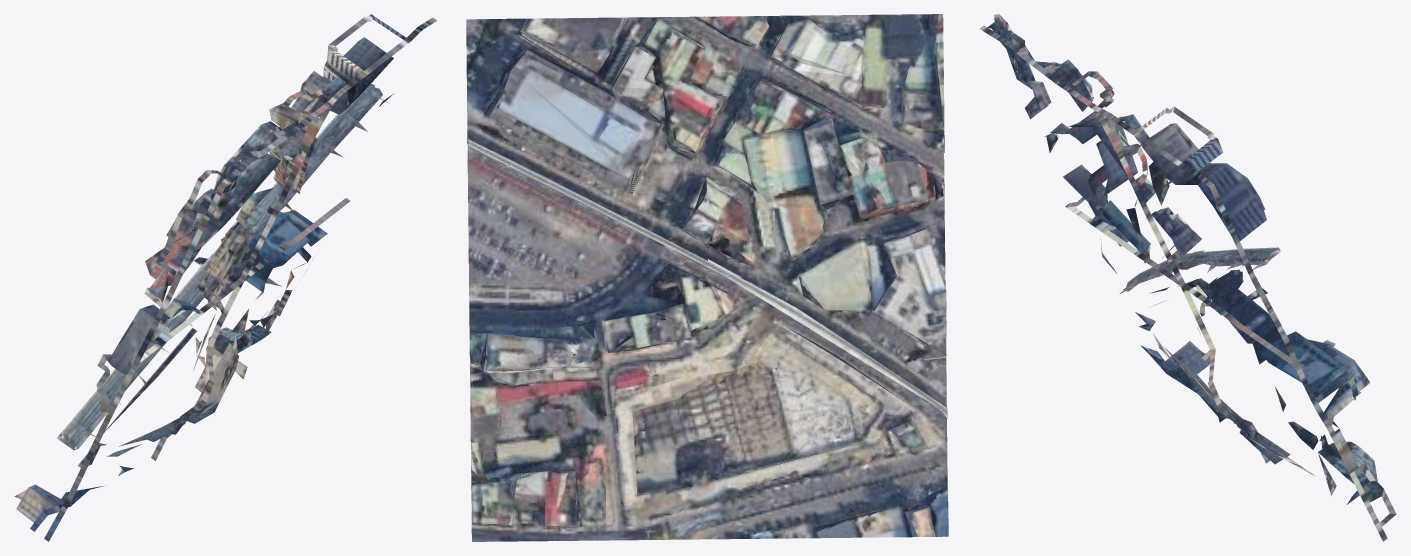
3 views of the same model, side by side, from view 1: azimuth 30°, elevation 25°; view 2: azimuth 150°, elevation 25°; view 3: azimuth 270°, elevation 25° (orthographic). The views are drawn at different scales.
Bounding box in the file's own units: 310 × 292 × 262.
2 materials, 2 textured.
